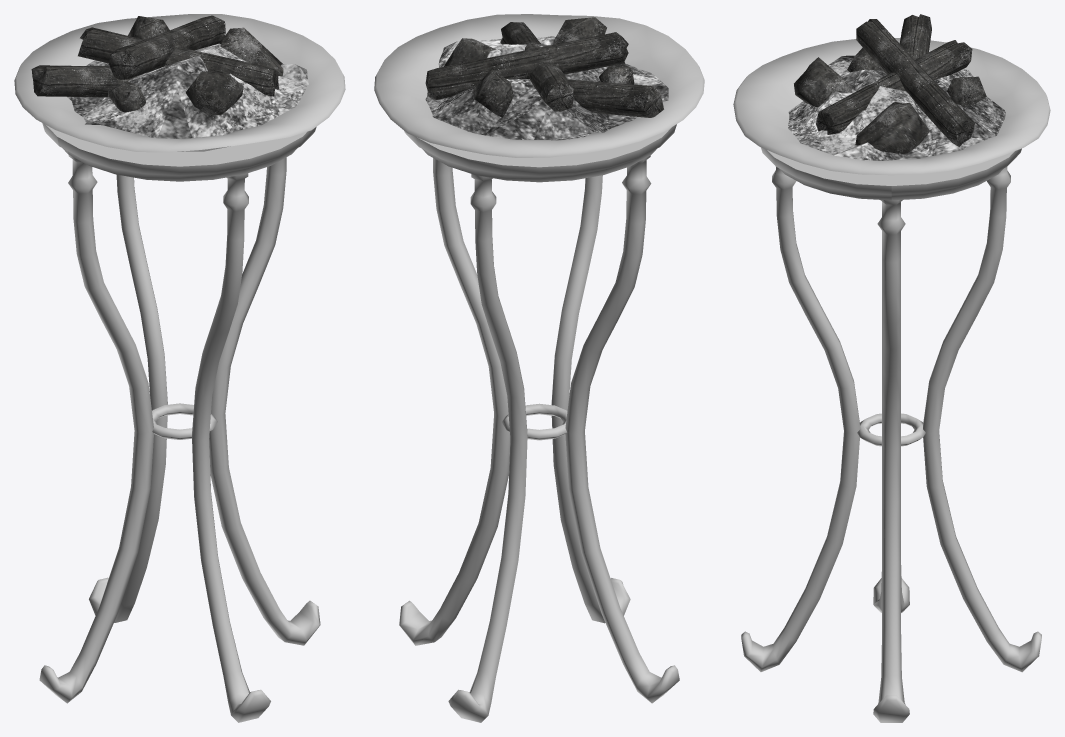
Rendered from SM_Brazier_A.fbx.
The picture shows the model from 3 angles, left to right: view 1: azimuth 30°, elevation 25°; view 2: azimuth 150°, elevation 25°; view 3: azimuth 270°, elevation 25°; orthographic projection. The views are drawn at different scales.
Parts seen in each view (by area): view 1: SM_Brazier_A_LOD0; view 2: SM_Brazier_A_LOD0; view 3: SM_Brazier_A_LOD0.
Boxes of the visible parts, left/top/right/bottom form: SM_Brazier_A_LOD0: left=14, top=14, right=345, bottom=722; SM_Brazier_A_LOD0: left=374, top=14, right=704, bottom=722; SM_Brazier_A_LOD0: left=733, top=14, right=1050, bottom=722.
Size of the model in its own units: 44.12 by 44.12 by 94.61.
Materials: 2 (1 with a texture image).
